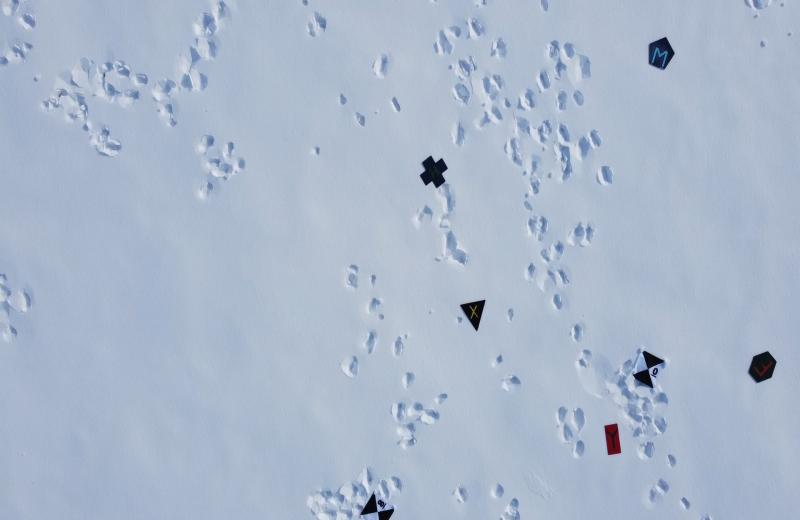Cross: (418, 150, 449, 189)
Hexagon: (748, 350, 780, 384)
Pentagon: (644, 34, 680, 74)
Rectangle: (604, 420, 624, 460)
Triangle: (458, 299, 489, 335)
